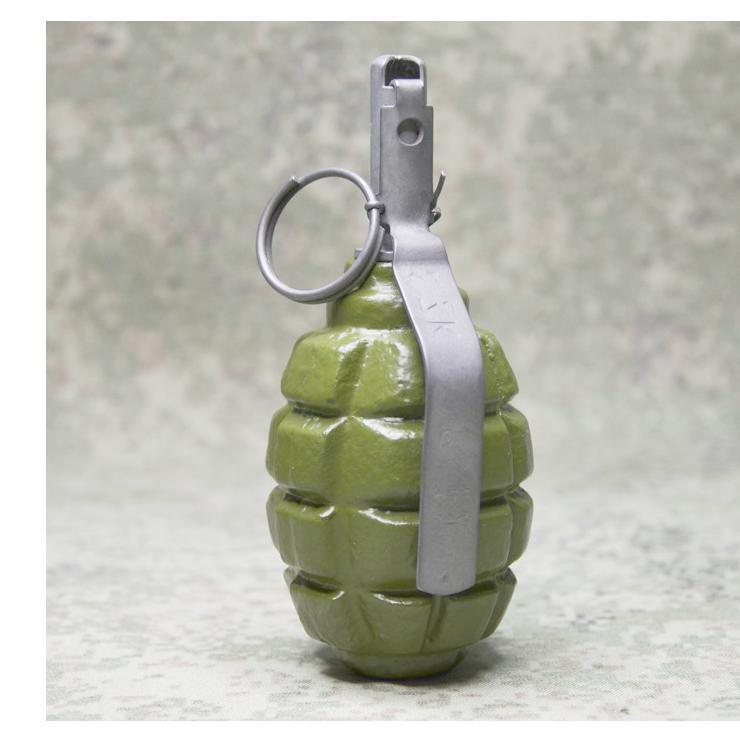Grenade: (257, 56, 534, 670)
